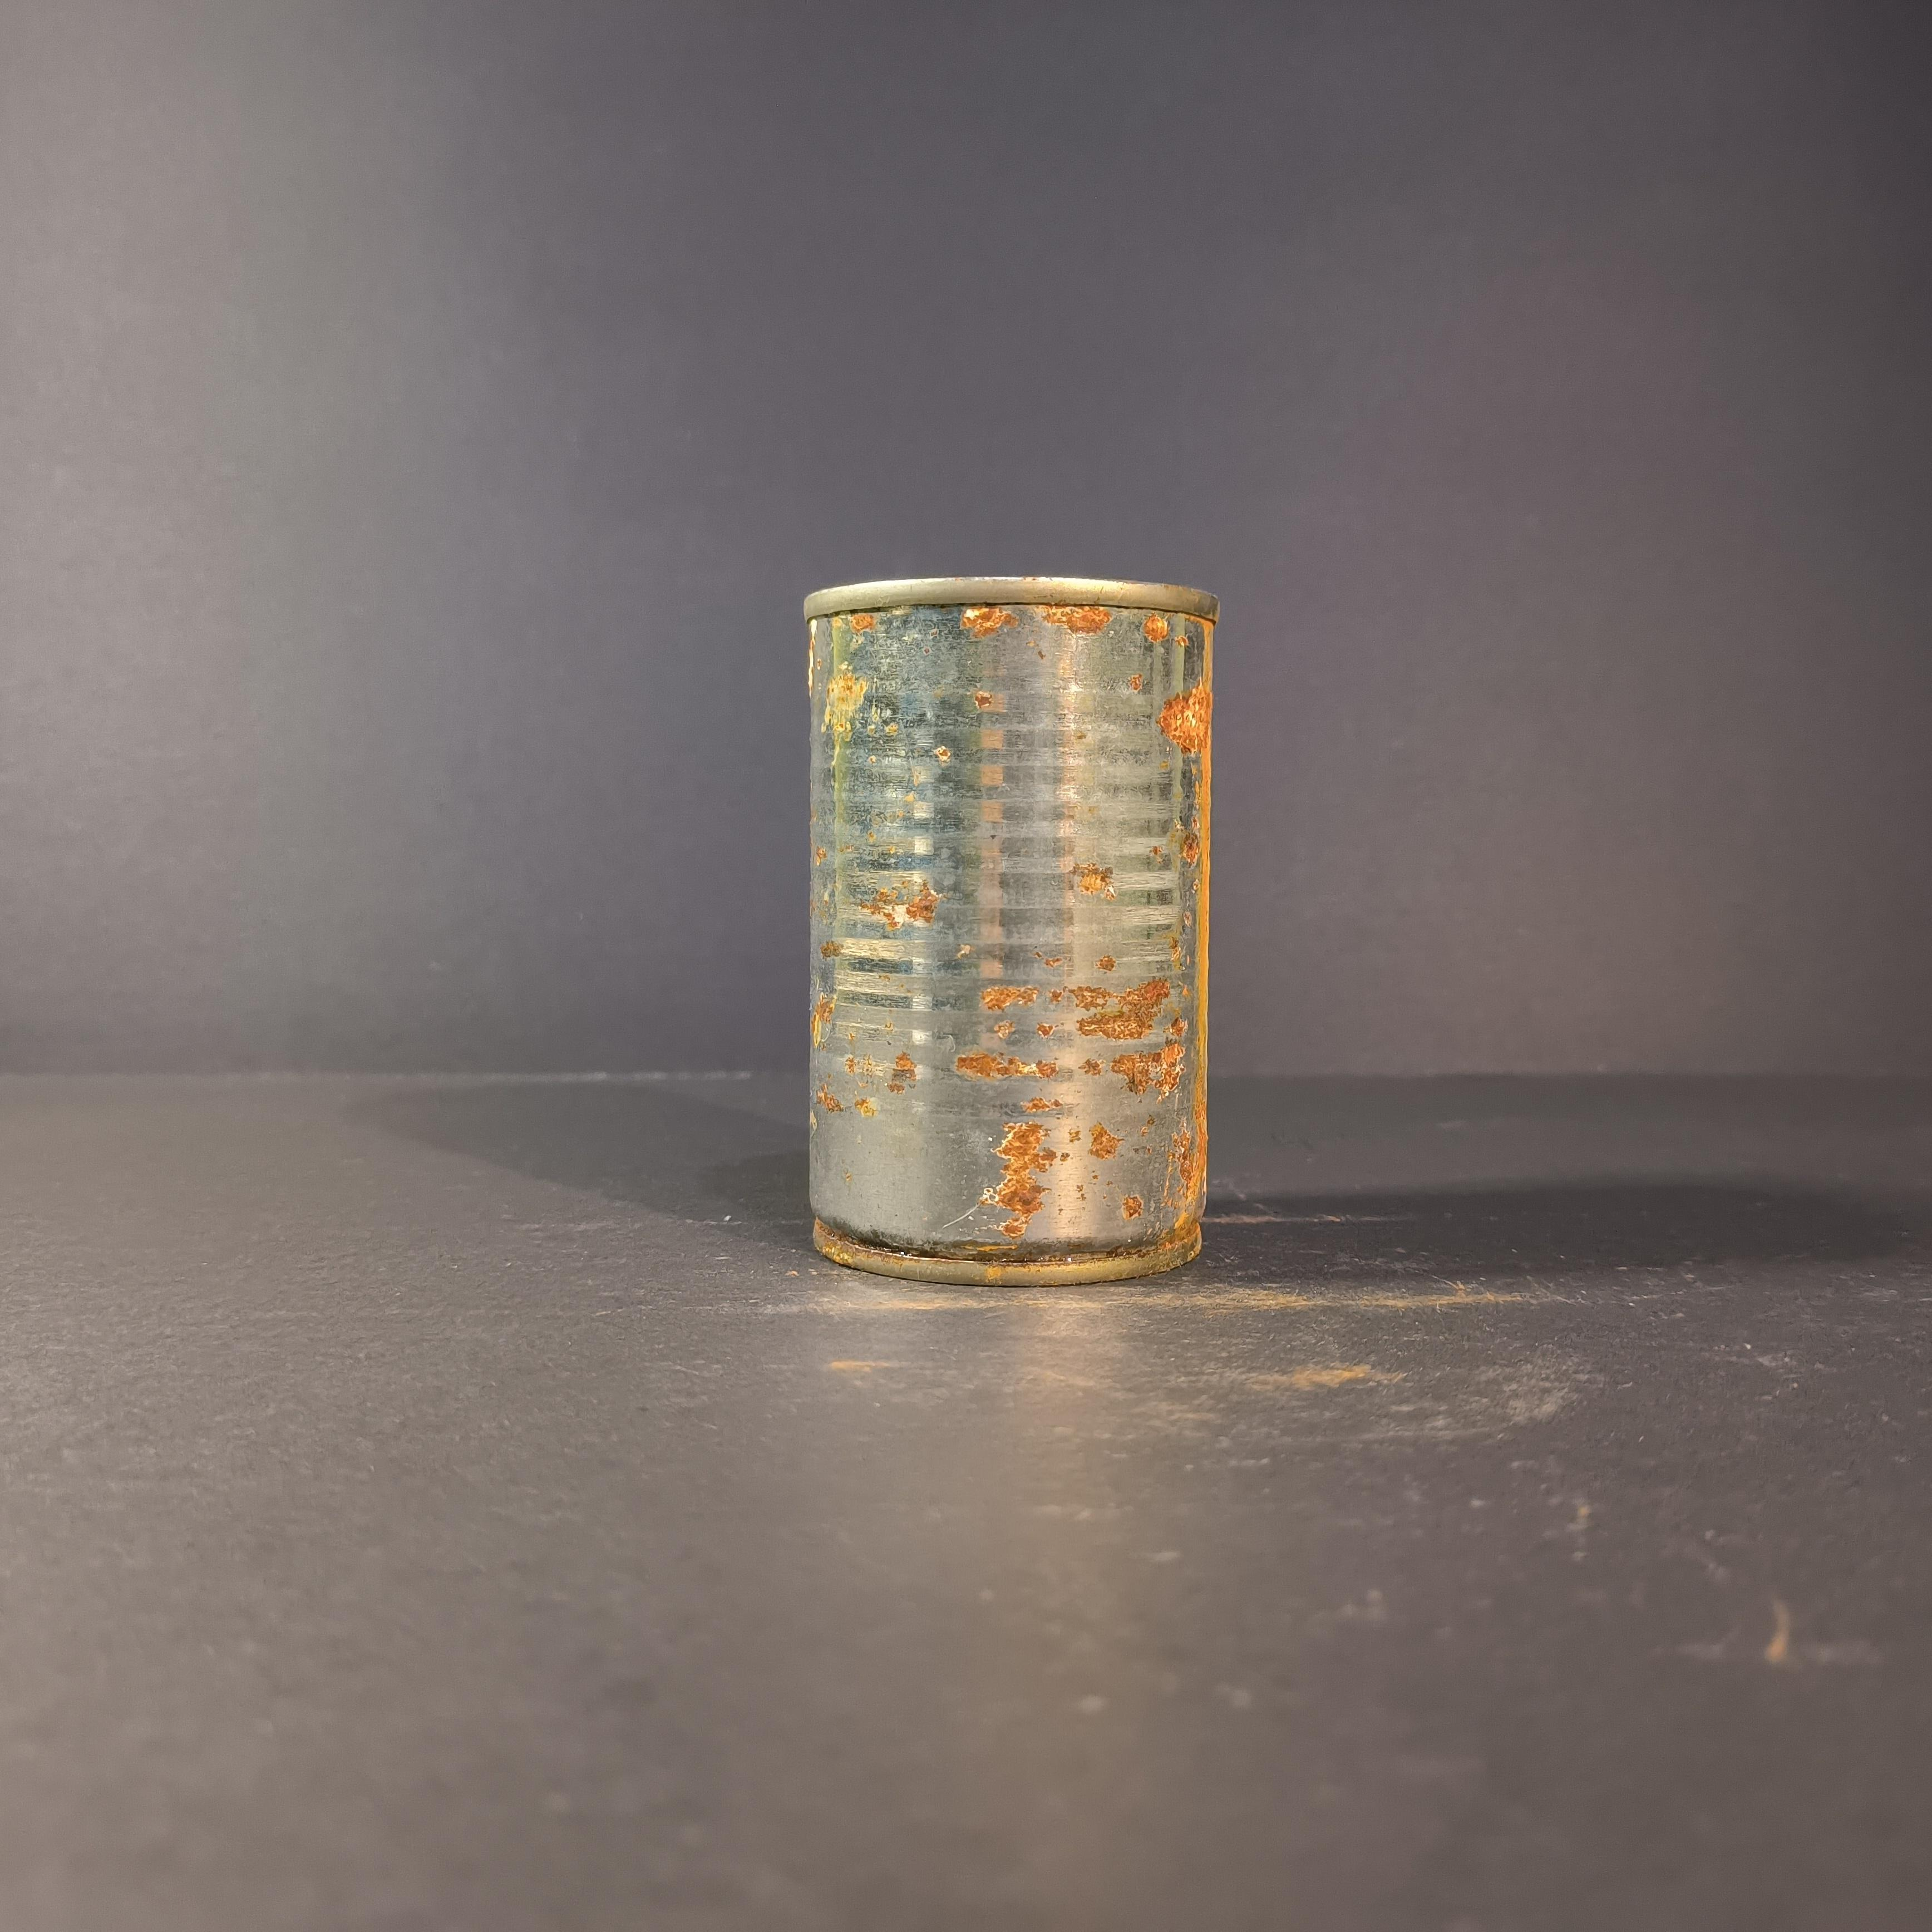Rusted: (791, 545, 1235, 1318)
